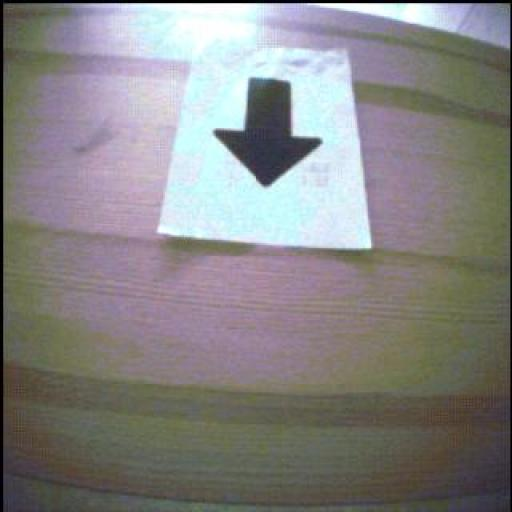arrow: (216, 80, 323, 187)
